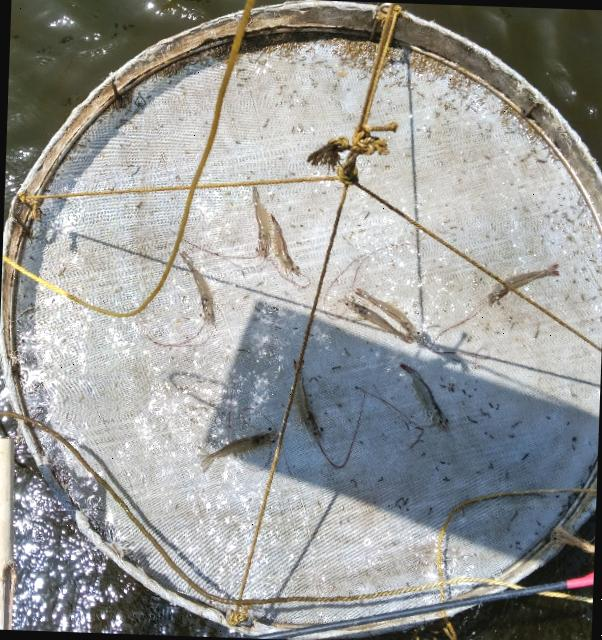shrimp: (354, 289, 419, 341), (341, 299, 412, 343), (400, 364, 448, 428), (201, 432, 277, 471), (488, 265, 558, 306), (180, 251, 213, 325), (292, 359, 320, 437), (268, 213, 300, 276), (253, 188, 268, 258)
